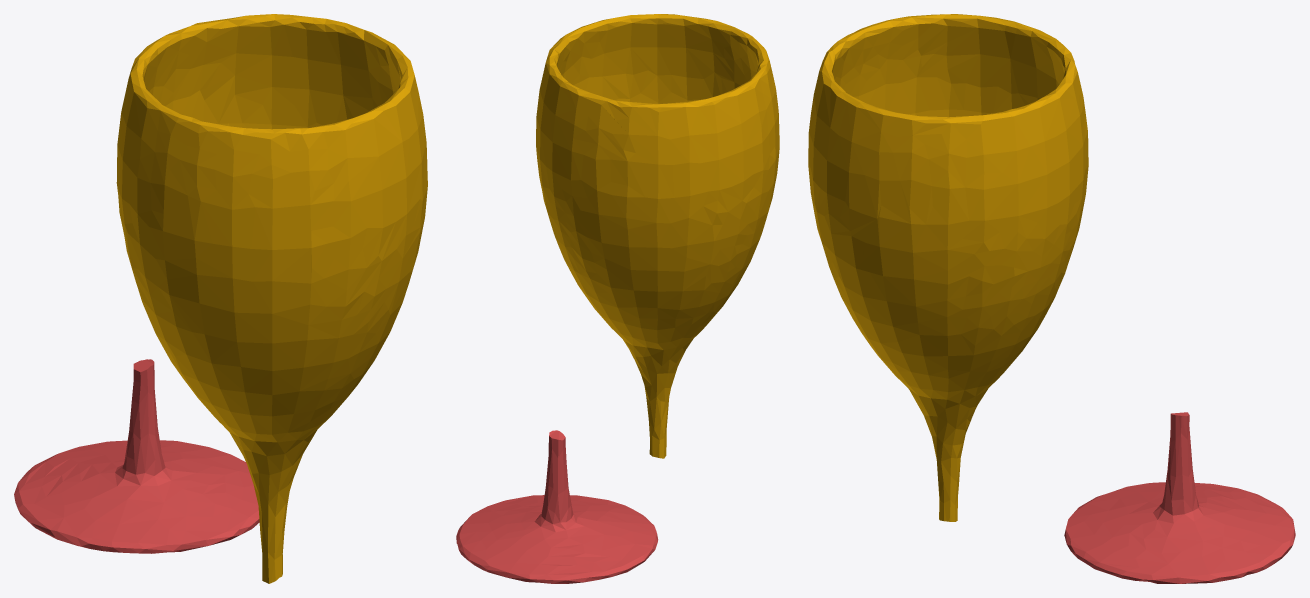
File: fractured_75_2pcs_transformed.glb
3 renders of one model, left to right at view 1: azimuth 30°, elevation 25°; view 2: azimuth 150°, elevation 25°; view 3: azimuth 270°, elevation 25°, orthographic. The views are drawn at different scales.
Visible parts, largest first — view 1: piece_0.obj, piece_1.obj; view 2: piece_0.obj, piece_1.obj; view 3: piece_0.obj, piece_1.obj.
Boxes of the visible parts, x1=… form: piece_0.obj: x1=116, y1=14, x2=427, y2=583; piece_1.obj: x1=14, y1=359, x2=259, y2=553; piece_0.obj: x1=536, y1=14, x2=779, y2=458; piece_1.obj: x1=456, y1=430, x2=658, y2=583; piece_0.obj: x1=808, y1=14, x2=1088, y2=521; piece_1.obj: x1=1064, y1=412, x2=1295, y2=583.
Size of the model in its own units: 0.4397 by 0.8168 by 0.7644.
